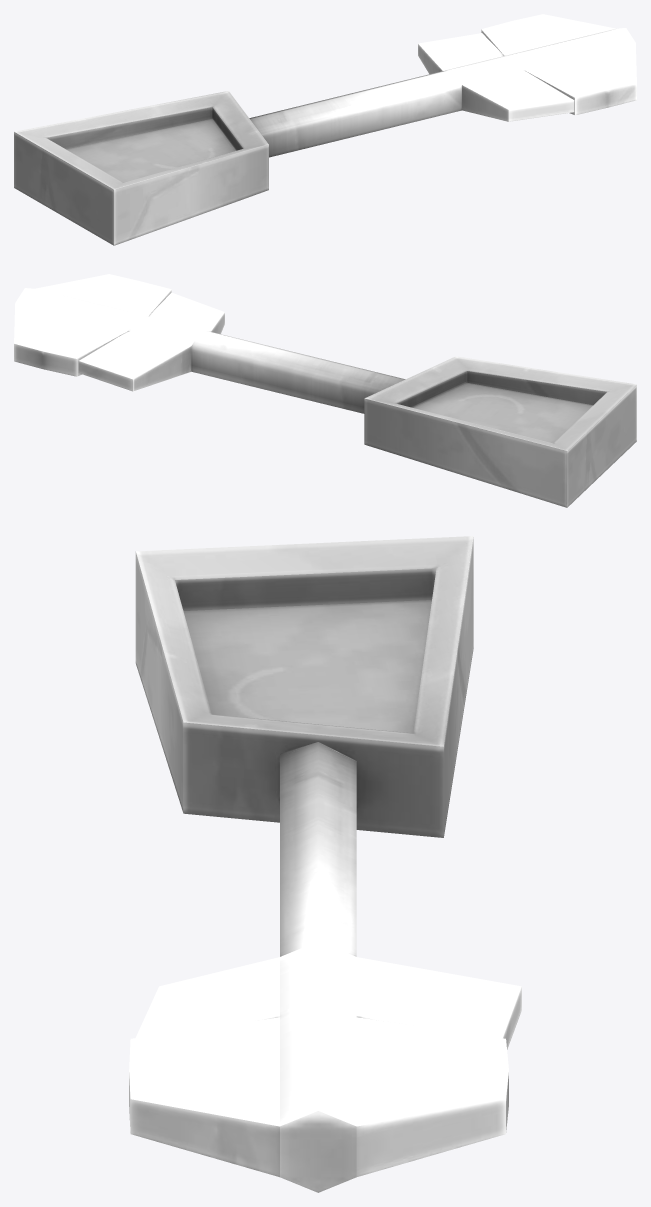
The model's file is obj_key02_easy.gltf.
3 renders of one model, top to bottom at view 1: azimuth 30°, elevation 25°; view 2: azimuth 150°, elevation 25°; view 3: azimuth 270°, elevation 25°, orthographic. The views are drawn at different scales.
Parts seen in each view (by area): view 1: obj_key02_easy; view 2: obj_key02_easy; view 3: obj_key02_easy.
Boxes of the visible parts, box(x1,y1,x2,y2) form: obj_key02_easy: box(14, 14, 636, 245); obj_key02_easy: box(14, 274, 636, 507); obj_key02_easy: box(129, 536, 521, 1192).
Size of what is drawn, in the model's own units: 0.4564 by 0.0427 by 0.1354.
1 material, 1 textured.
